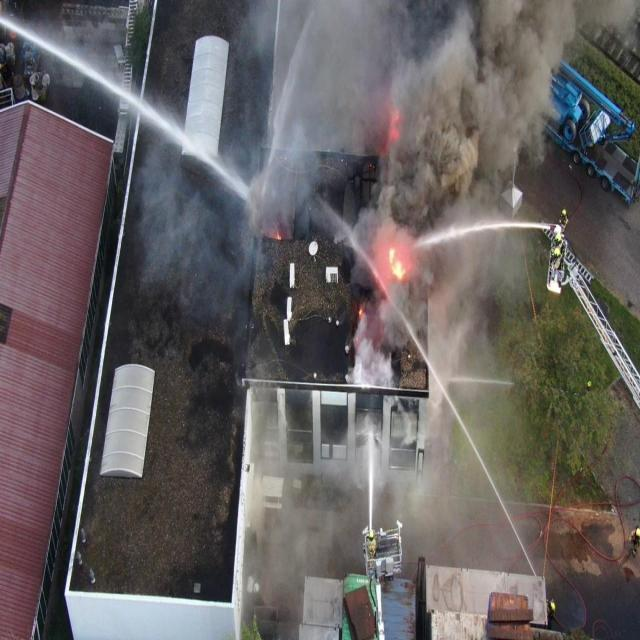Fire: (391, 261, 406, 280), (389, 248, 395, 264), (276, 234, 282, 240), (360, 308, 362, 316)
Smoke: (136, 0, 640, 608)
